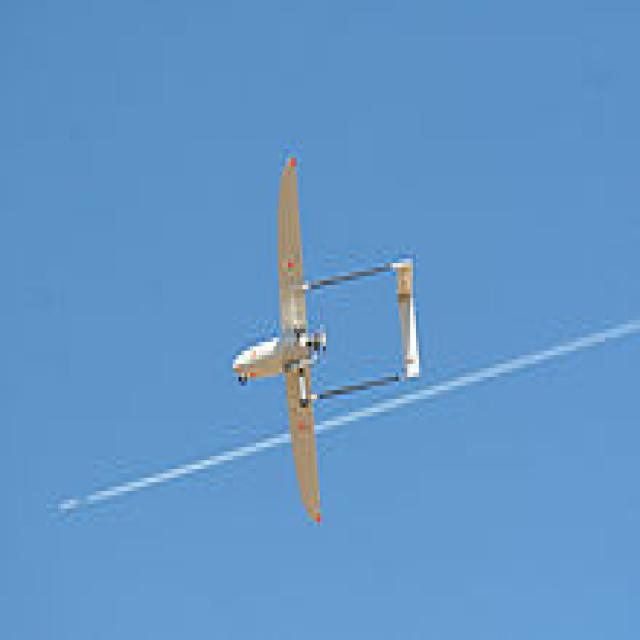iha: (225, 151, 416, 527)
